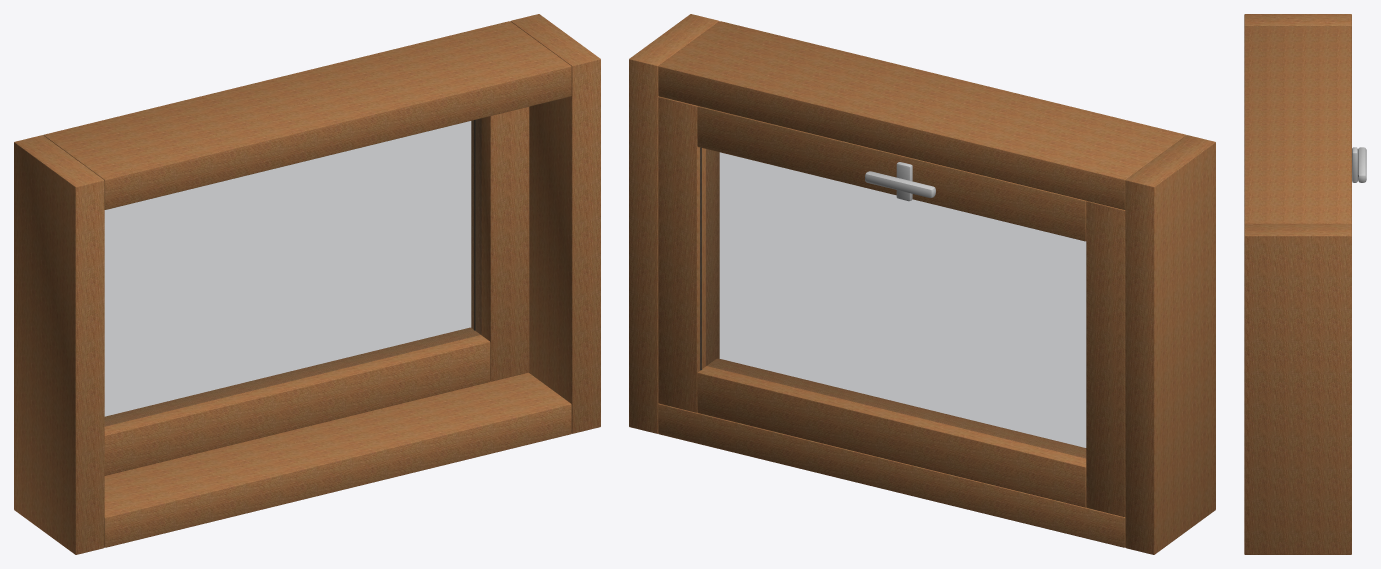
Rendered from reclbfX3H2X7B6KeG.glb.
The picture shows the model from 3 angles, left to right: view 1: azimuth 30°, elevation 25°; view 2: azimuth 150°, elevation 25°; view 3: azimuth 270°, elevation 25°; orthographic projection. The views are drawn at different scales.
Parts seen in each view (by area): view 1: fenetre_coin_bureau__cadre, fenetre_coin_bureau__ouvrant; view 2: fenetre_coin_bureau__ouvrant, fenetre_coin_bureau__cadre; view 3: fenetre_coin_bureau__cadre, fenetre_coin_bureau__ouvrant.
Part boxes in pixels (x1,y1,x2,y2): fenetre_coin_bureau__cadre: (14,14,600,554); fenetre_coin_bureau__ouvrant: (104,107,529,475); fenetre_coin_bureau__ouvrant: (658,96,1125,516); fenetre_coin_bureau__cadre: (629,14,1215,554); fenetre_coin_bureau__cadre: (1244,14,1351,554); fenetre_coin_bureau__ouvrant: (1352,147,1366,182).
Bounding box in the file's own units: 1.07 × 0.72 × 0.25.
Materials: 4 (2 with a texture image).
